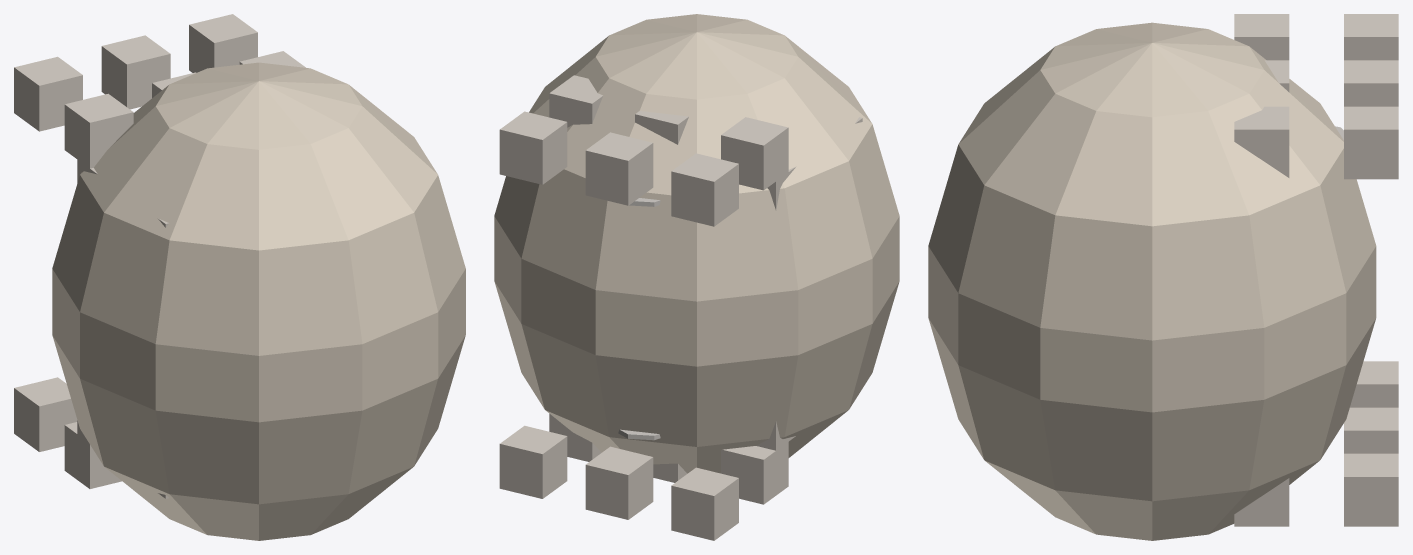
Rendered from _torso-uppertorso.glb.
3 views of the same model, side by side, from view 1: azimuth 30°, elevation 25°; view 2: azimuth 150°, elevation 25°; view 3: azimuth 270°, elevation 25° (orthographic). The views are drawn at different scales.
Size of the model in its own units: 0.1637 by 0.1927 by 0.1718.
